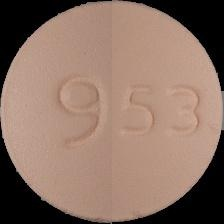63187-334: (0, 0, 224, 224)
